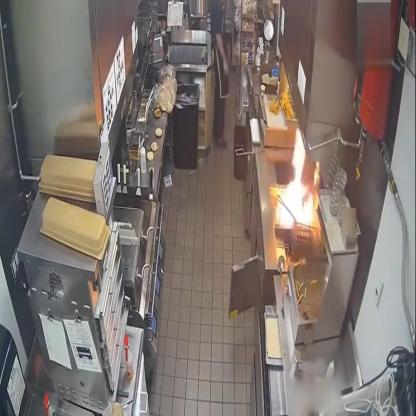fire: (274, 122, 318, 233)
